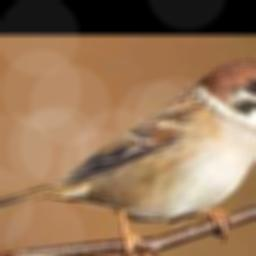Sparrow: (0, 59, 256, 256)
